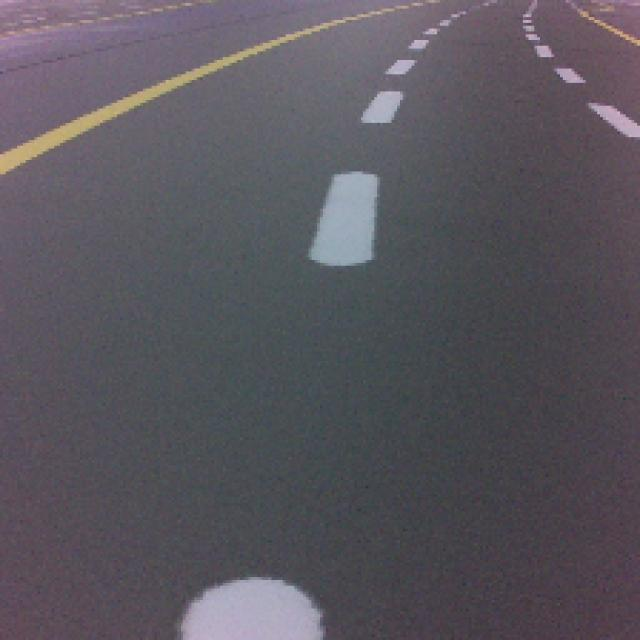Guard rail: (179, 576, 323, 640)
